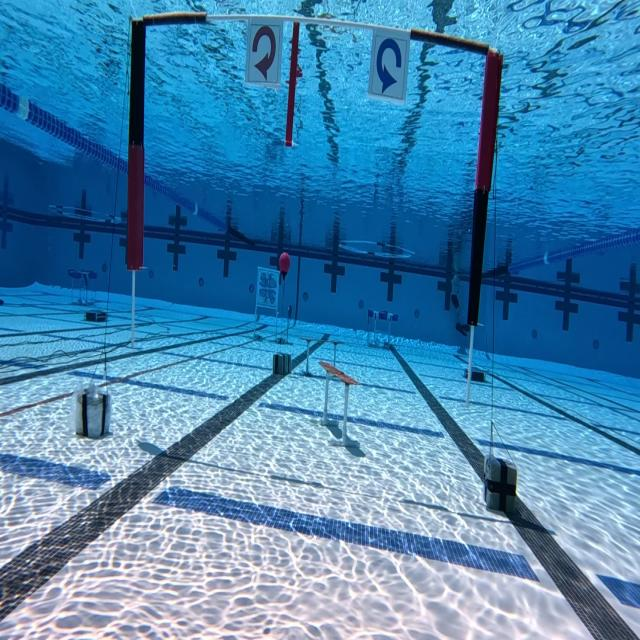blue_side: (372, 32, 403, 96)
red_side: (249, 22, 282, 82)
